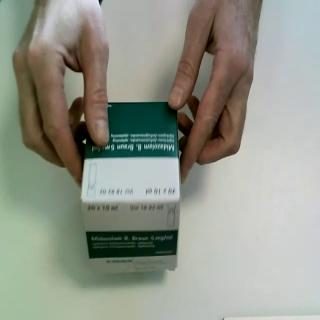midazolam5mg_ml: (79, 99, 183, 279)
